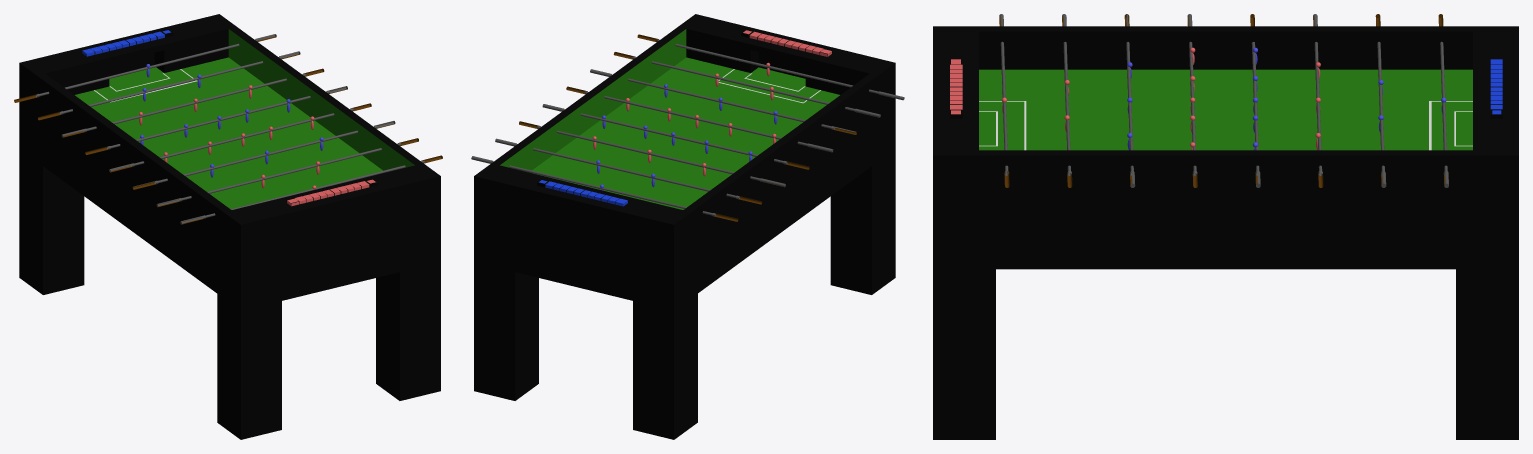
The model's file is Kickertafel_eetzaal_morgbeka.glb.
The picture shows the model from 3 angles, left to right: view 1: azimuth 30°, elevation 25°; view 2: azimuth 150°, elevation 25°; view 3: azimuth 270°, elevation 25°; orthographic projection. The views are drawn at different scales.
Visible parts, largest first — view 1: Table, Stokken.014, Stokken.008, Stokken.013, Stokken.009, Stokken.012, Stokken.011, Stokken.010, Stokken; view 2: Table, Stokken, Stokken.014, Stokken.013, Stokken.008, Stokken.009, Stokken.012, Stokken.010, Stokken.011; view 3: Table, Stokken, Stokken.014, Stokken.008, Stokken.013, Stokken.012, Stokken.009.
Boxes of the visible parts, box(x1,y1,x2,y2) form: Table: box(19, 14, 440, 439); Stokken.014: box(14, 34, 276, 102); Stokken.008: box(156, 138, 418, 207); Stokken.013: box(38, 51, 300, 120); Stokken.009: box(132, 121, 395, 189); Stokken.012: box(61, 68, 324, 137); Stokken.011: box(85, 86, 347, 154); Stokken.010: box(109, 103, 371, 172); Stokken: box(180, 155, 442, 224); Table: box(474, 14, 895, 439); Stokken: box(637, 34, 904, 100); Stokken.014: box(471, 156, 738, 221); Stokken.013: box(495, 138, 762, 204); Stokken.008: box(613, 52, 880, 117); Stokken.009: box(590, 69, 856, 134); Stokken.012: box(519, 121, 785, 187); Stokken.010: box(566, 86, 833, 152); Stokken.011: box(542, 104, 809, 169); Table: box(933, 26, 1518, 439); Stokken: box(999, 14, 1009, 187); Stokken.014: box(1438, 14, 1448, 187); Stokken.008: box(1062, 14, 1072, 187); Stokken.013: box(1375, 14, 1386, 187); Stokken.012: box(1313, 14, 1323, 187); Stokken.009: box(1124, 14, 1135, 187).
Size of the model in its own units: 0.9604 by 0.761 by 1.4.
